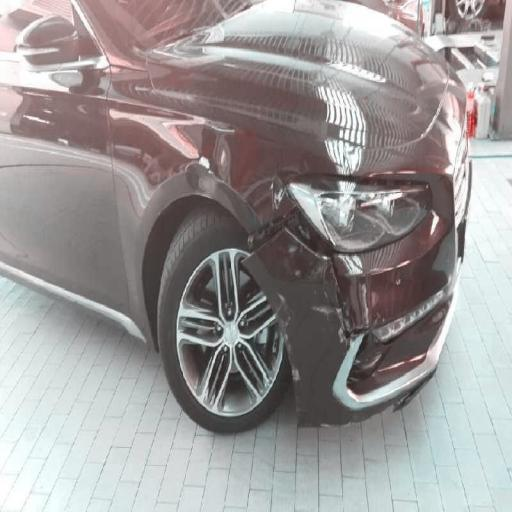broken: (235, 177, 403, 402)
